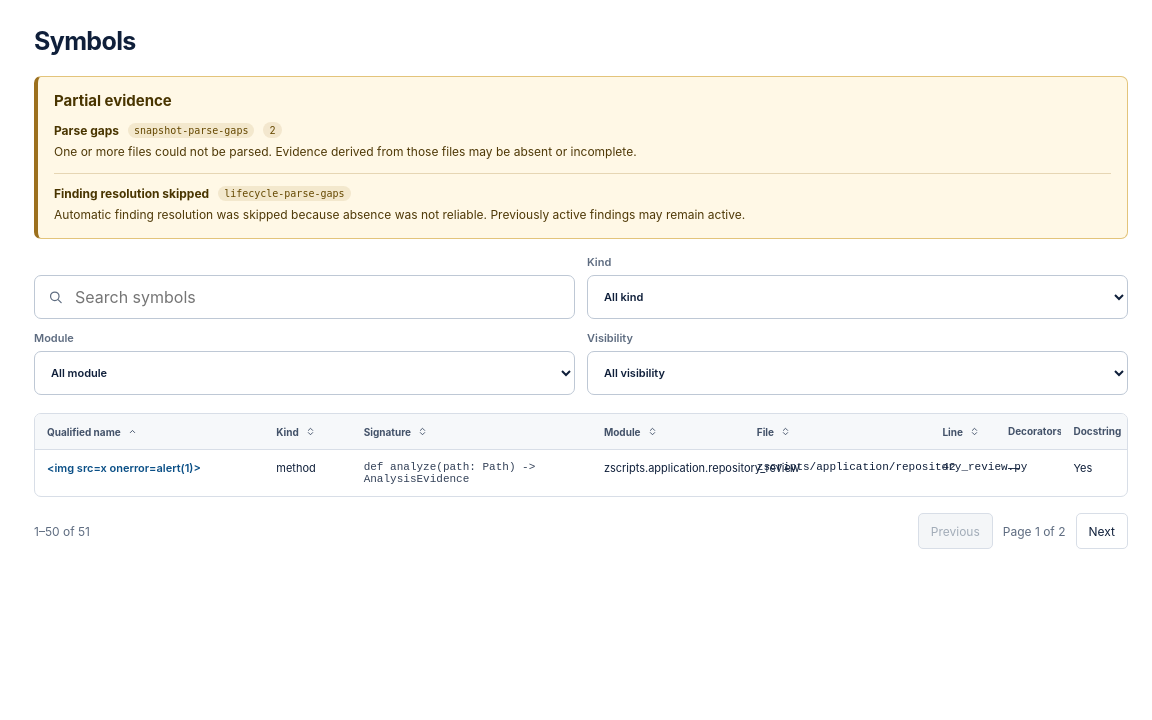
Test: SymbolsView › searches, filters, escapes repository text, and opens bounded source evidence
The image size is (1152, 720).
Expected: the button "<img src=x onerror=alert(1)>" is shown, [47,461,201,475]
Expected: the heading "Partial evidence" is shown, [54,91,172,110]
Type "analyze" into the search field with placeholder "Search symbols" at (304, 297), box [34,275,575,319]
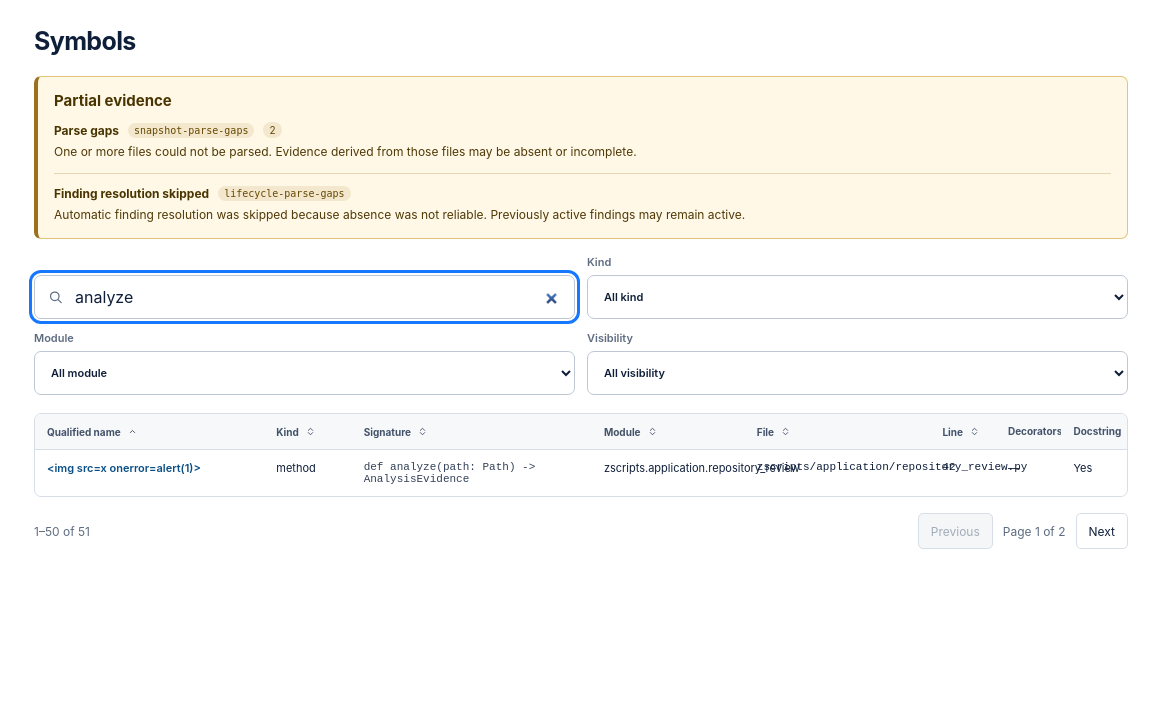
Select "method" in the dropdown labelled "Kind" at (858, 297), box [587,275,1128,319]
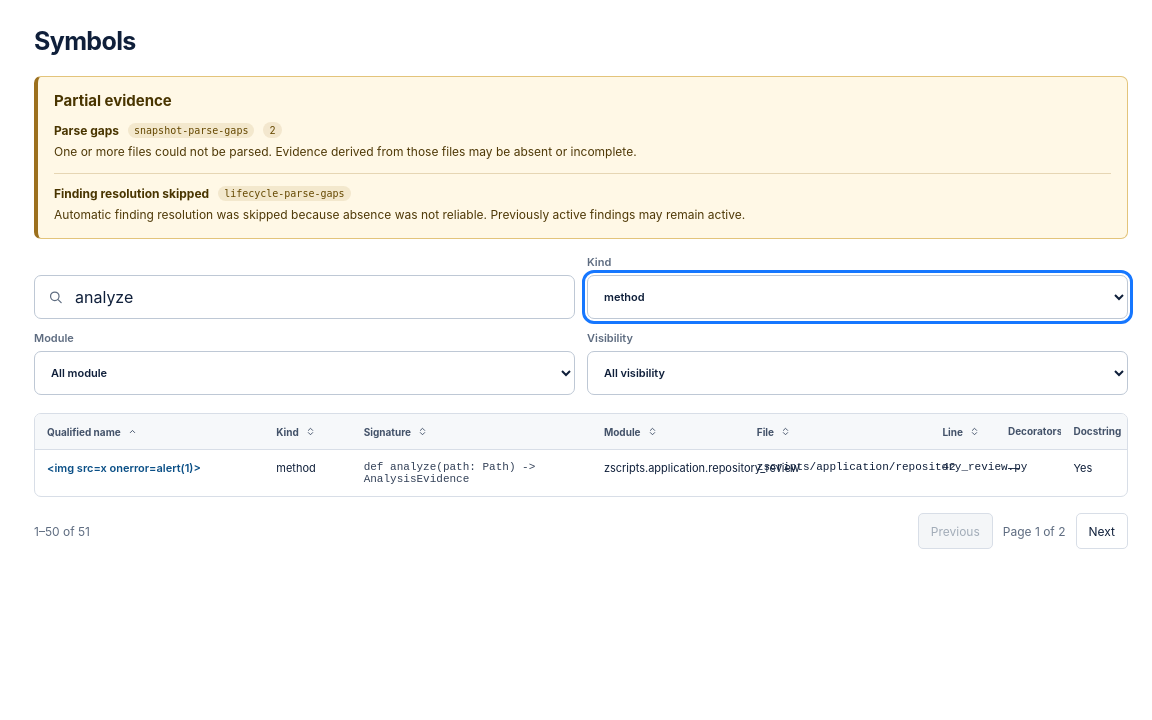
Expected: the heading "Partial evidence" is shown, [54,91,172,110]
Click the button "Next" at (1102, 531), box [1076,513,1128,549]
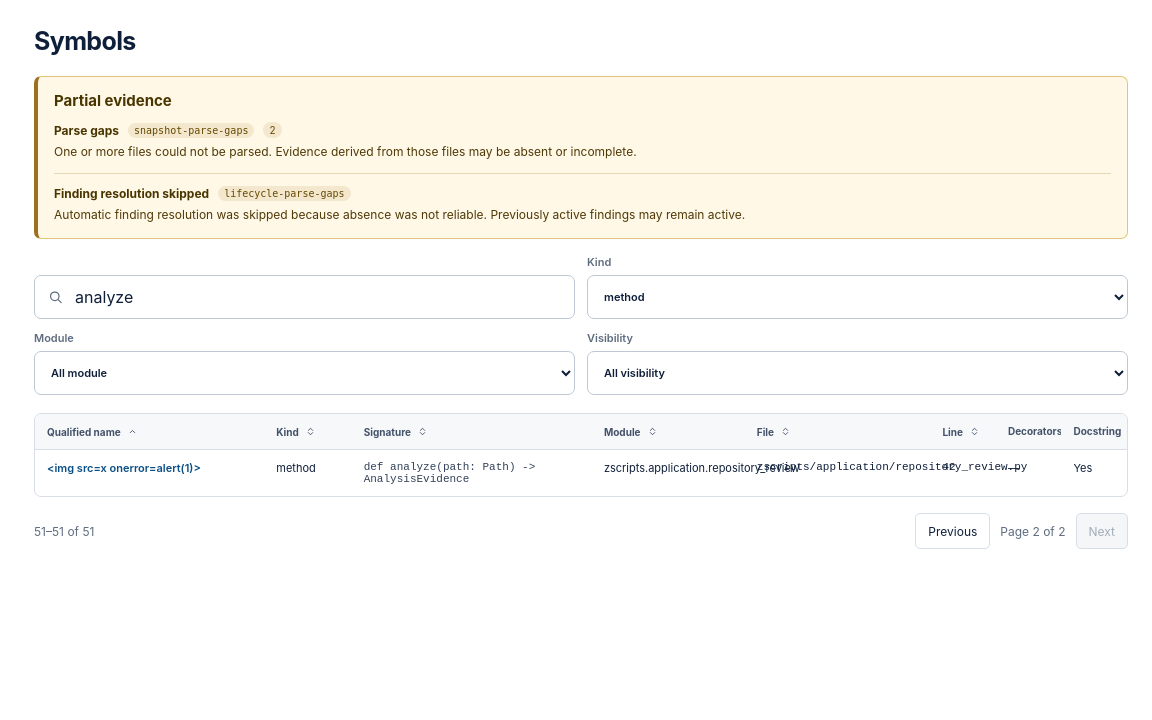
Expected: the heading "Partial evidence" is shown, [54,91,172,110]
Click the button "<img src=x onerror=alert(1)>" at (124, 468), box [47,461,201,475]
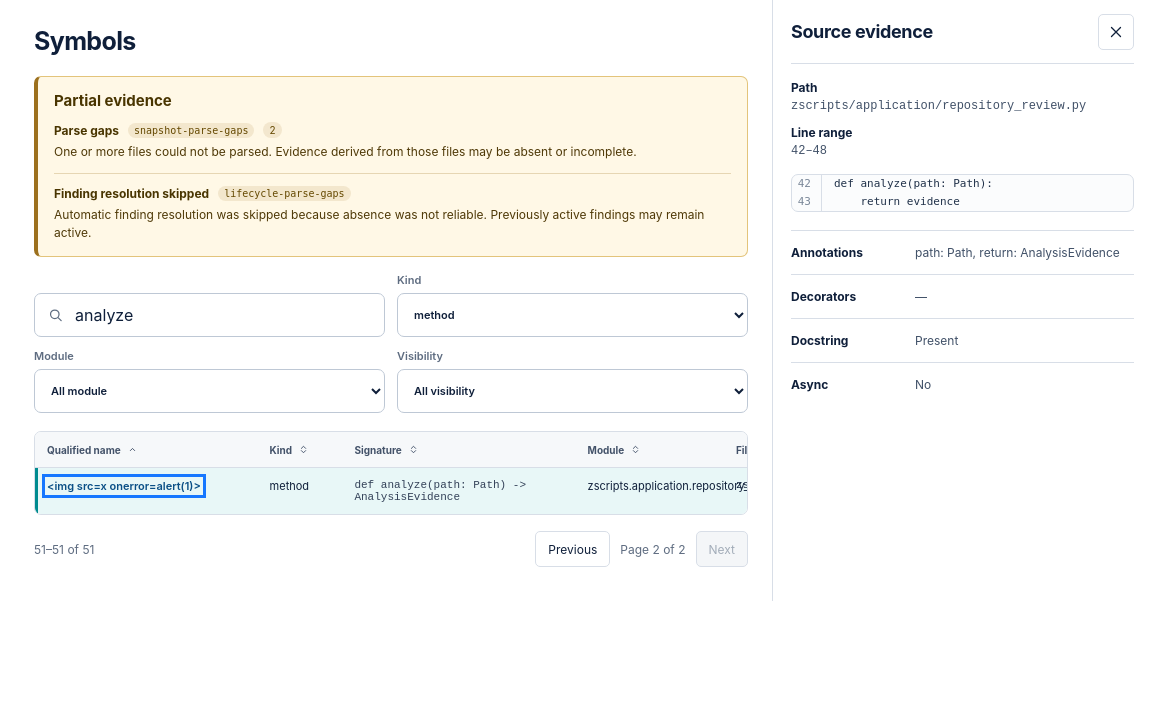
Now the heading "Source evidence" is shown, box [791,21,933,42]
Now the element named "Read-only source excerpt" is shown, box [791,174,1134,212]
Now the button named "Close source evidence" is shown, box [1098,14,1134,50]
